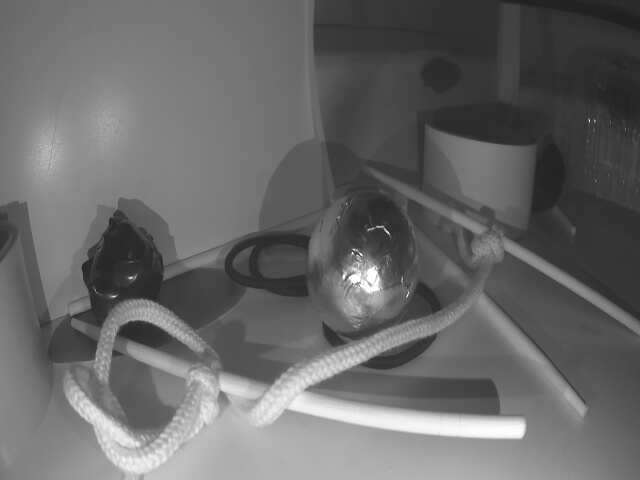Dead: (76, 216, 164, 318)
Live: (303, 187, 420, 330)
